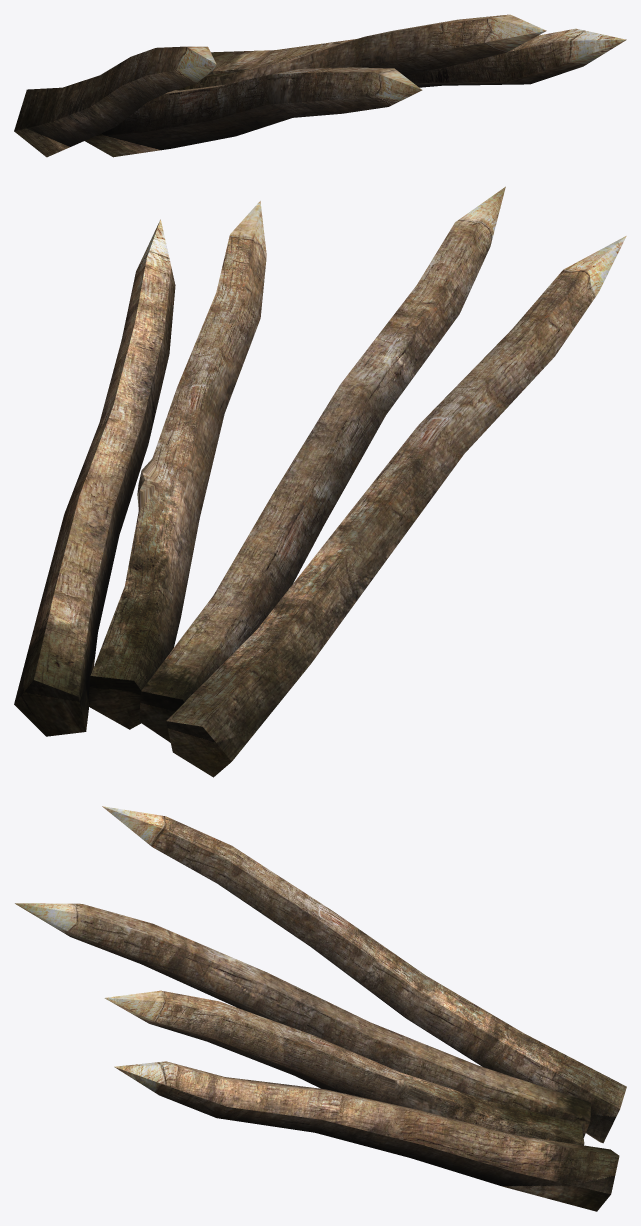
The model's file is barricade_02.fbx.
The picture shows the model from 3 angles, top to bottom: view 1: azimuth 30°, elevation 25°; view 2: azimuth 150°, elevation 25°; view 3: azimuth 270°, elevation 25°; orthographic projection. The views are drawn at different scales.
Visible parts, largest first — view 1: Mesh Object; view 2: Mesh Object; view 3: Mesh Object.
Boxes of the visible parts, bbox=[...] form: Mesh Object: bbox=[14, 14, 626, 157]; Mesh Object: bbox=[14, 186, 626, 777]; Mesh Object: bbox=[15, 806, 626, 1211].
Size of the model in its own units: 1.36 by 0.9826 by 1.87.
